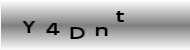4: (44, 22, 60, 36)
D: (68, 25, 86, 40)
Y: (21, 19, 36, 34)
n: (94, 26, 108, 37)
t: (115, 10, 125, 23)
